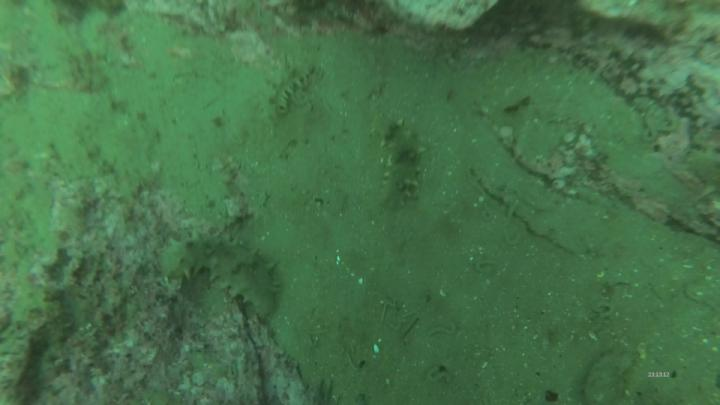holothurian: (159, 231, 284, 322), (366, 112, 430, 212), (270, 59, 319, 120)
